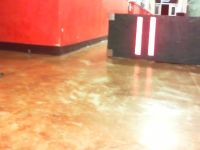switch: (135, 16, 145, 55), (147, 17, 156, 56)
